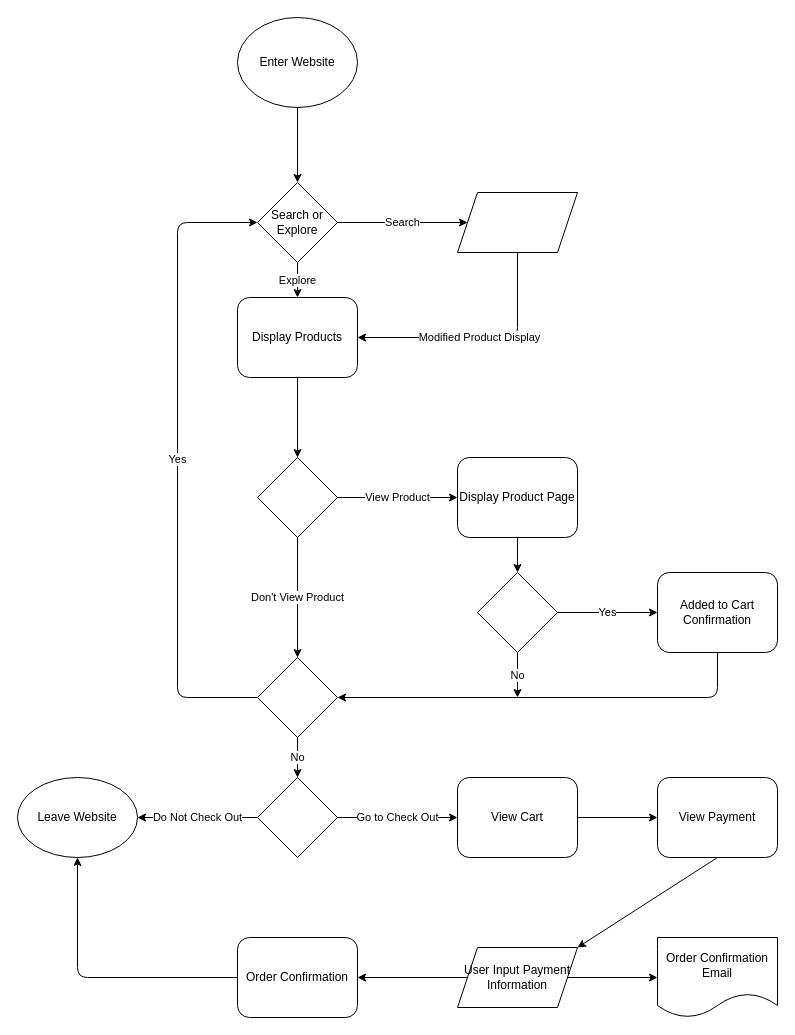
Some shapes in this 795 by 1035 pixel diagram are drawn without their labels. Here are the shapes that lost their labels. From the top down, the centre of each, then its label:
At pixel 517 222: "User Search Input".
At pixel 297 497: "Choose to View Product".
At pixel 517 612: "Add to Cart?".
At pixel 297 697: "Continue Shopping?".
At pixel 297 817: "Check Out".
